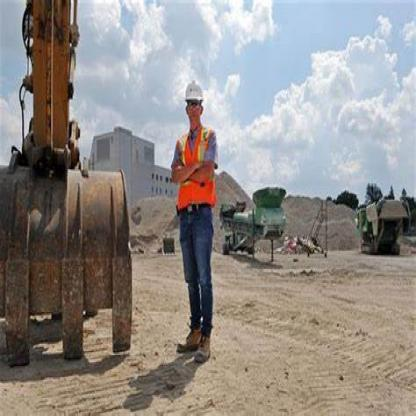person: (162, 72, 228, 365)
